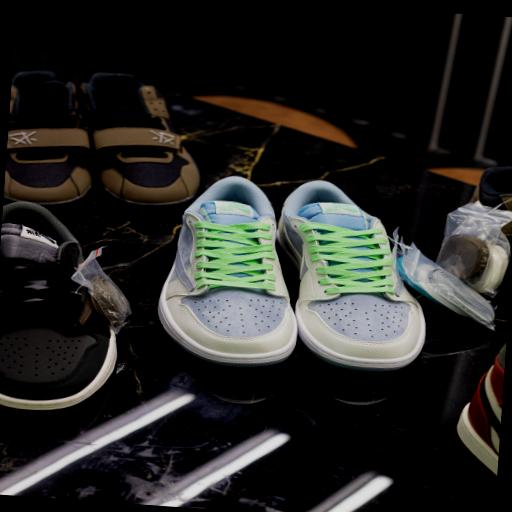shoe: (277, 178, 445, 376), (0, 198, 133, 418), (158, 177, 295, 367), (80, 69, 210, 213), (4, 60, 102, 205), (447, 312, 508, 512), (467, 138, 512, 311)
